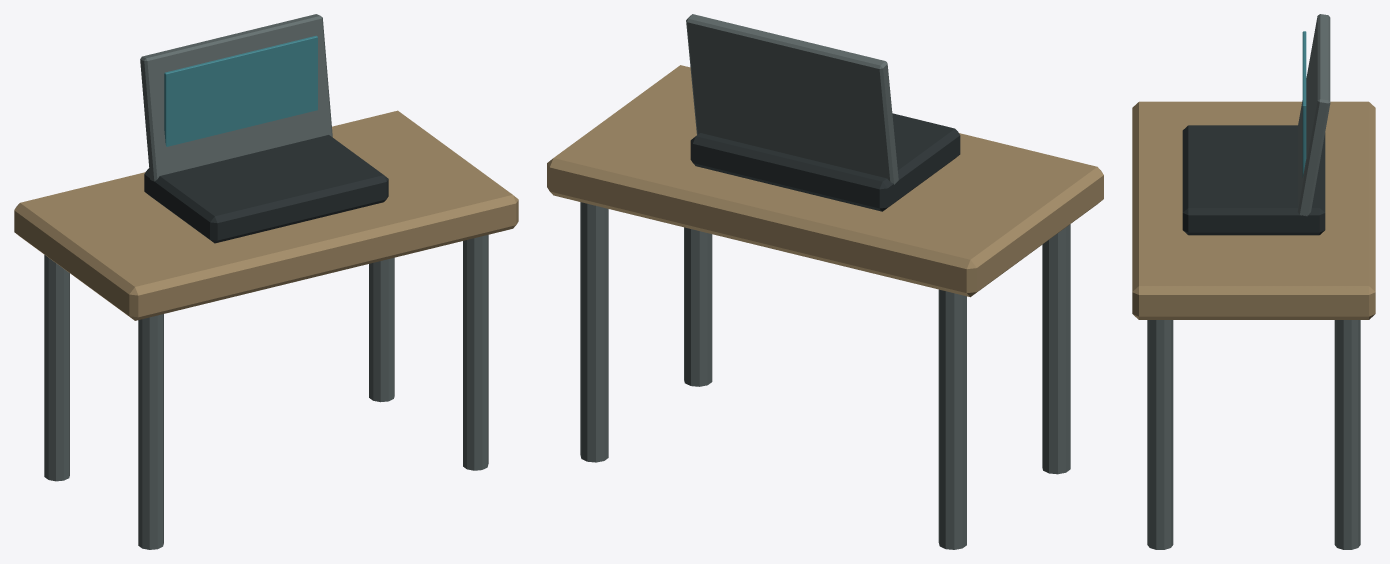
The model's file is intel_case.glb.
The picture shows the model from 3 angles, left to right: view 1: azimuth 30°, elevation 25°; view 2: azimuth 150°, elevation 25°; view 3: azimuth 270°, elevation 25°; orthographic projection. The views are drawn at different scales.
Visible parts, largest first — view 1: intel_case; view 2: intel_case; view 3: intel_case.
Part boxes in pixels (left/top/right/bottom): intel_case: left=14, top=14, right=518, bottom=549; intel_case: left=547, top=14, right=1103, bottom=549; intel_case: left=1132, top=14, right=1375, bottom=549.
Size of the model in its own units: 1.2 by 1.2 by 0.65.
